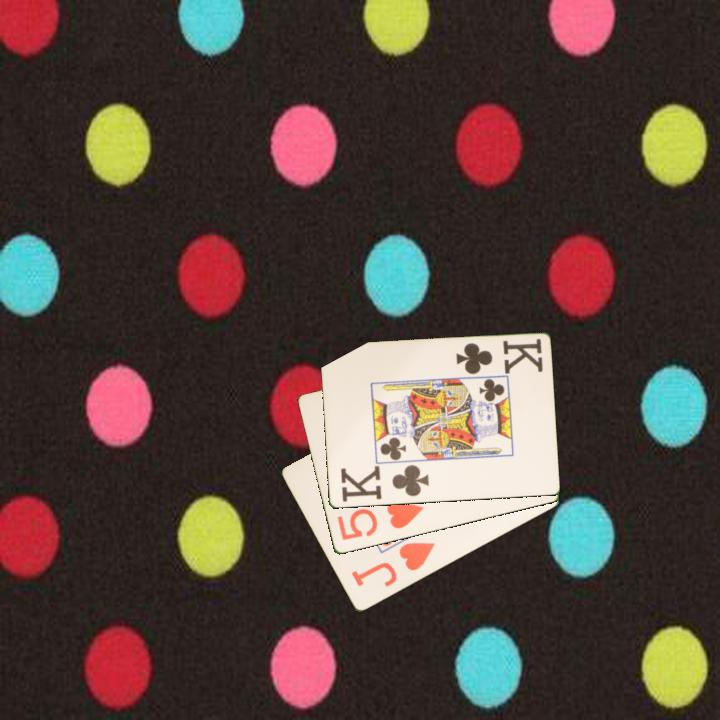5h: (333, 497, 426, 543)
Jh: (348, 539, 438, 590)
Kc: (337, 462, 431, 505), (452, 336, 546, 378)
